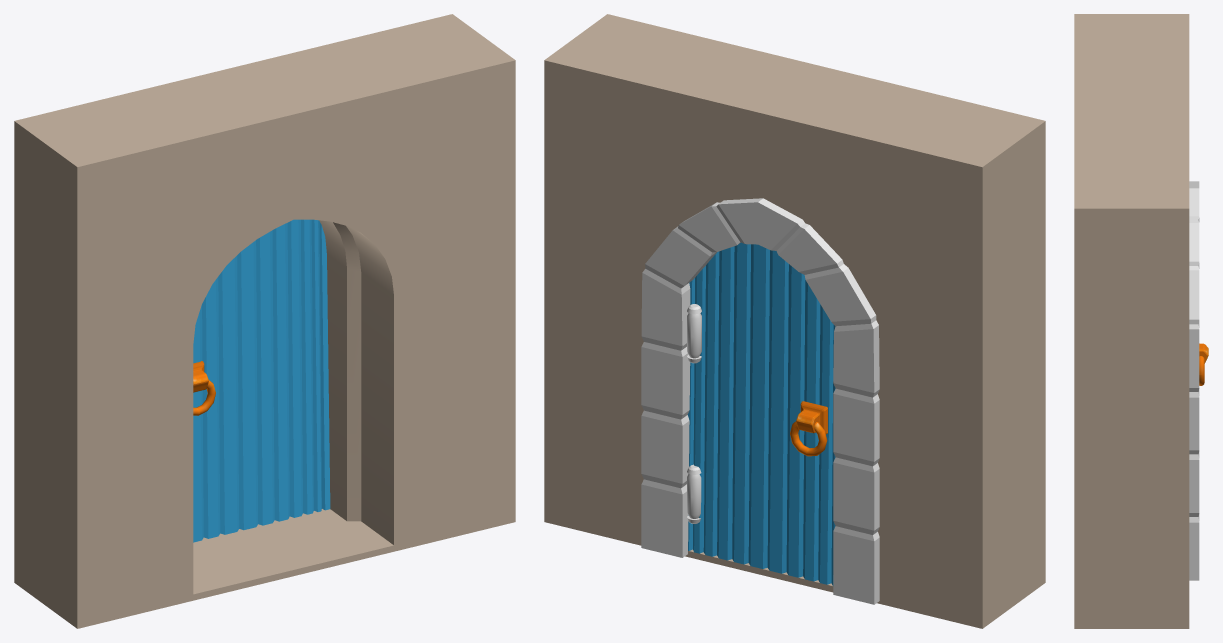
The model's file is Door-Normal-2.glb.
3 views of the same model, side by side, from view 1: azimuth 30°, elevation 25°; view 2: azimuth 150°, elevation 25°; view 3: azimuth 270°, elevation 25° (orthographic). The views are drawn at different scales.
Parts seen in each view (by area): view 1: Wall-1-2x2x05, Deur-1.001; view 2: Wall-1-2x2x05, Deur-1.001, DeurOmlijsting-1.001, Scharnier.001, Scharnier.002, DeurklopperHouder-002; view 3: Wall-1-2x2x05, DeurOmlijsting-1.001.
Part boxes in pixels (box(x1,y1,x2,y2)): Wall-1-2x2x05: box(14, 14, 515, 628); Deur-1.001: box(193, 219, 330, 542); Wall-1-2x2x05: box(544, 14, 1045, 628); Deur-1.001: box(687, 242, 835, 585); DeurOmlijsting-1.001: box(641, 198, 879, 604); Scharnier.001: box(687, 304, 701, 363); Scharnier.002: box(687, 464, 701, 523); DeurklopperHouder-002: box(796, 401, 827, 434); Wall-1-2x2x05: box(1074, 14, 1189, 628); DeurOmlijsting-1.001: box(1189, 181, 1199, 580).
Bounding box in the file's own units: 2 × 2.01 × 0.5835.
Materials: 3 (1 with a texture image).
